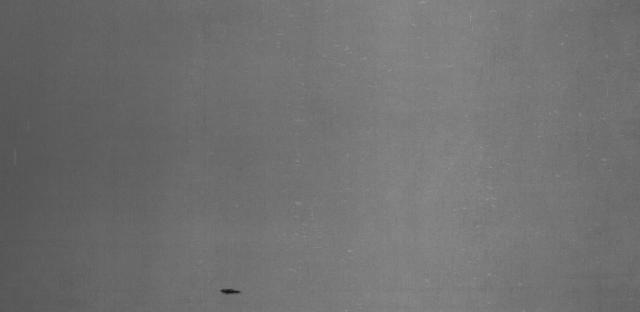inclusion: (210, 279, 244, 302)
